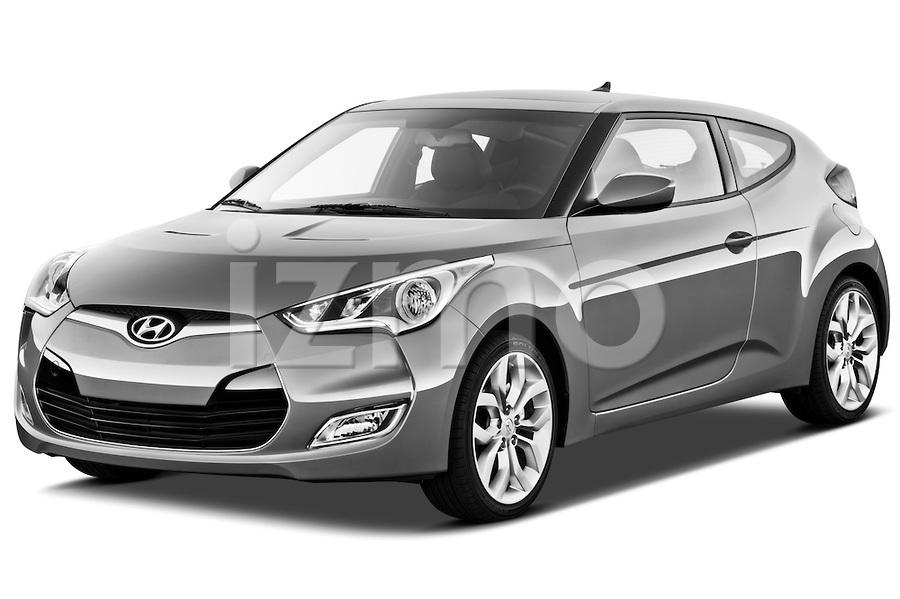car: (9, 78, 899, 520)
